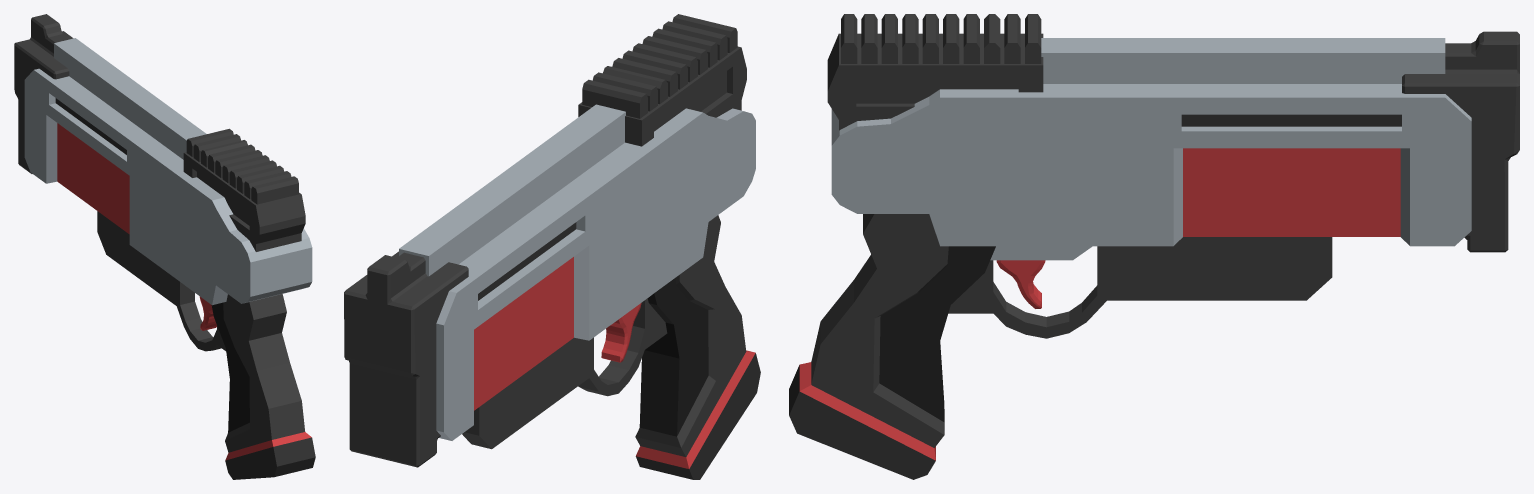
File: Pistol.glb
The picture shows the model from 3 angles, left to right: view 1: azimuth 30°, elevation 25°; view 2: azimuth 150°, elevation 25°; view 3: azimuth 270°, elevation 25°; orthographic projection. The views are drawn at different scales.
Visible parts, largest first — view 1: Pistol; view 2: Pistol; view 3: Pistol.
Part boxes in pixels (left/top/right/bottom): Pistol: left=14, top=14, right=315, bottom=479; Pistol: left=344, top=14, right=760, bottom=479; Pistol: left=789, top=14, right=1519, bottom=479.
Bounding box in the file's own units: 0.3813 × 1.82 × 2.75.
